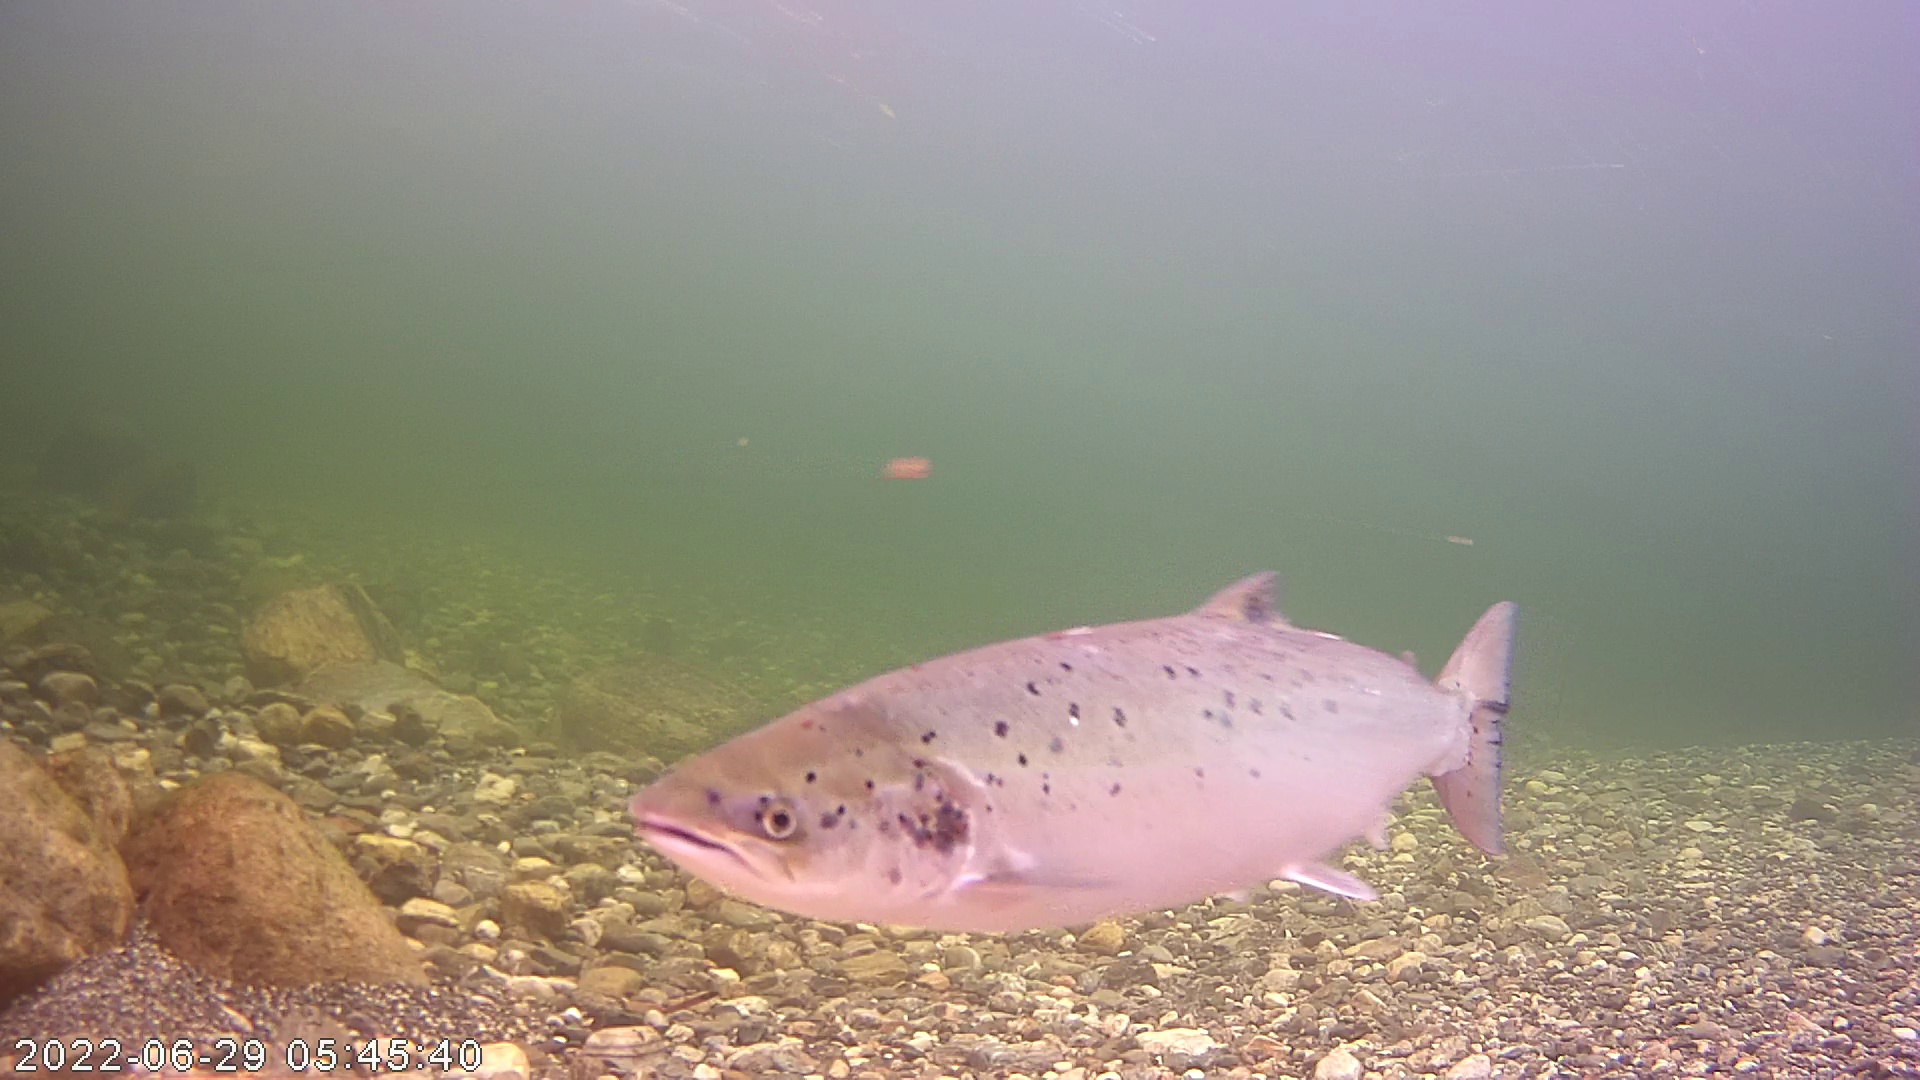salmon: (650, 491, 1528, 951)
